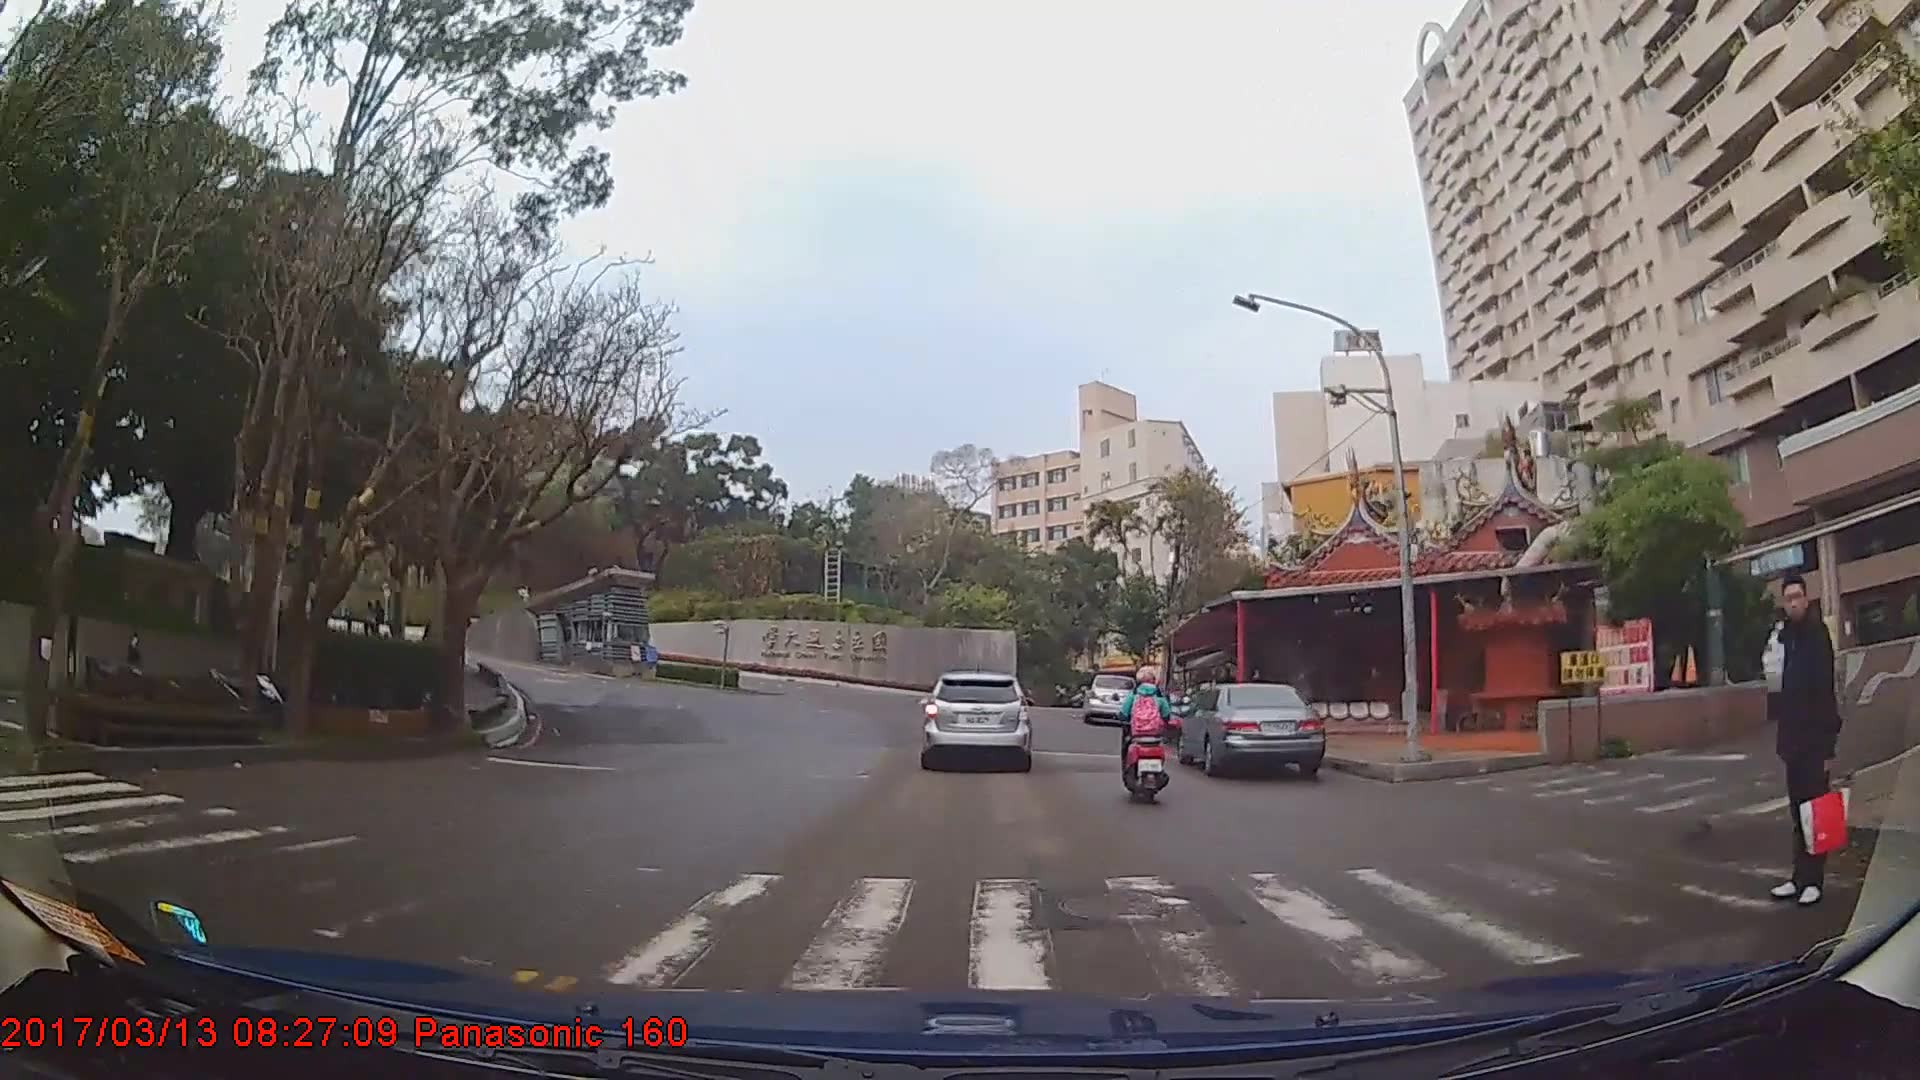pedestrian: (1747, 571, 1851, 905)
rider: (1117, 663, 1179, 812)
vehicle: (1174, 682, 1323, 776), (920, 670, 1030, 772), (1082, 672, 1133, 722)
